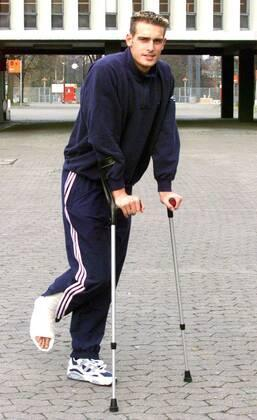crutches: (29, 11, 193, 413)
